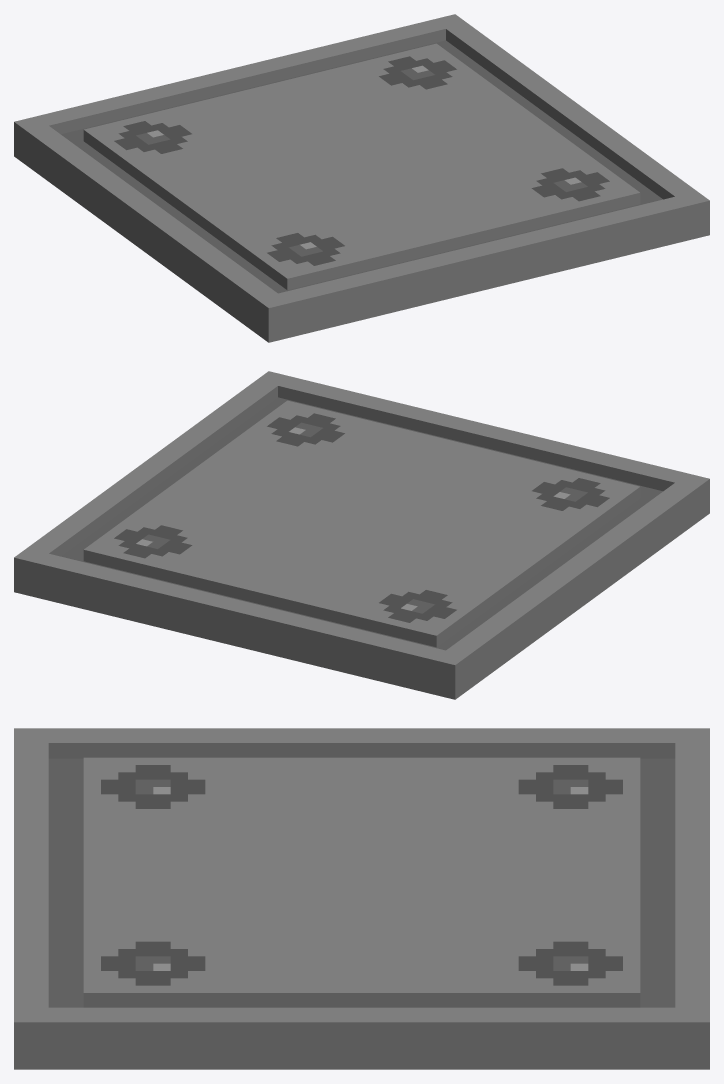
Rendered from env_floor_basic_armored.obj.
3 views of the same model, one above another, from view 1: azimuth 30°, elevation 25°; view 2: azimuth 150°, elevation 25°; view 3: azimuth 270°, elevation 25° (orthographic). The views are drawn at different scales.
Size of the model in its own units: 40 by 3 by 40.
Materials: 1 (1 with a texture image).
